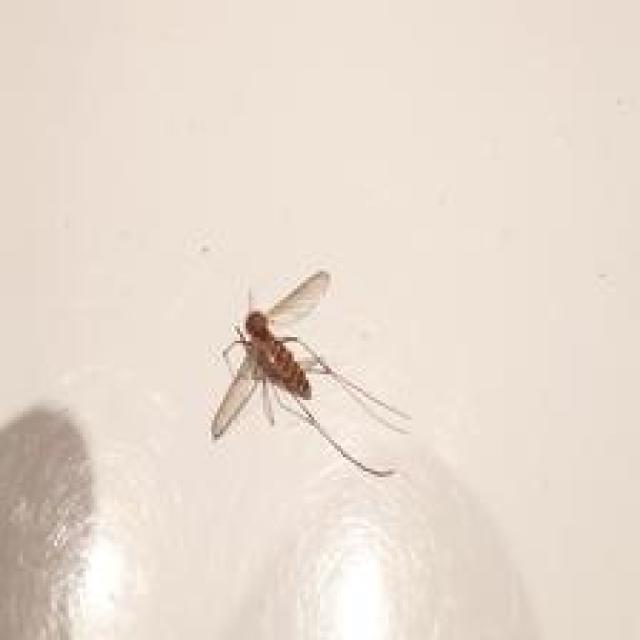Culex: (210, 267, 413, 479)
